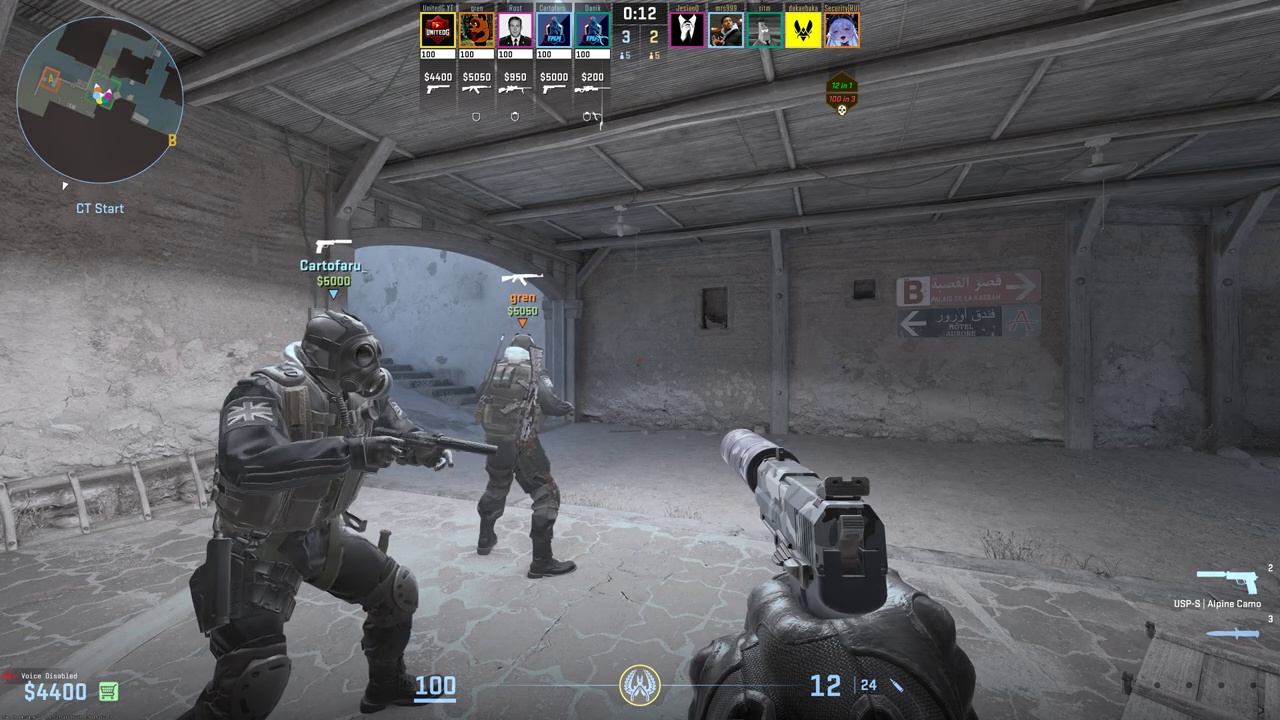CT: (211, 311, 419, 720), (478, 332, 562, 579)
